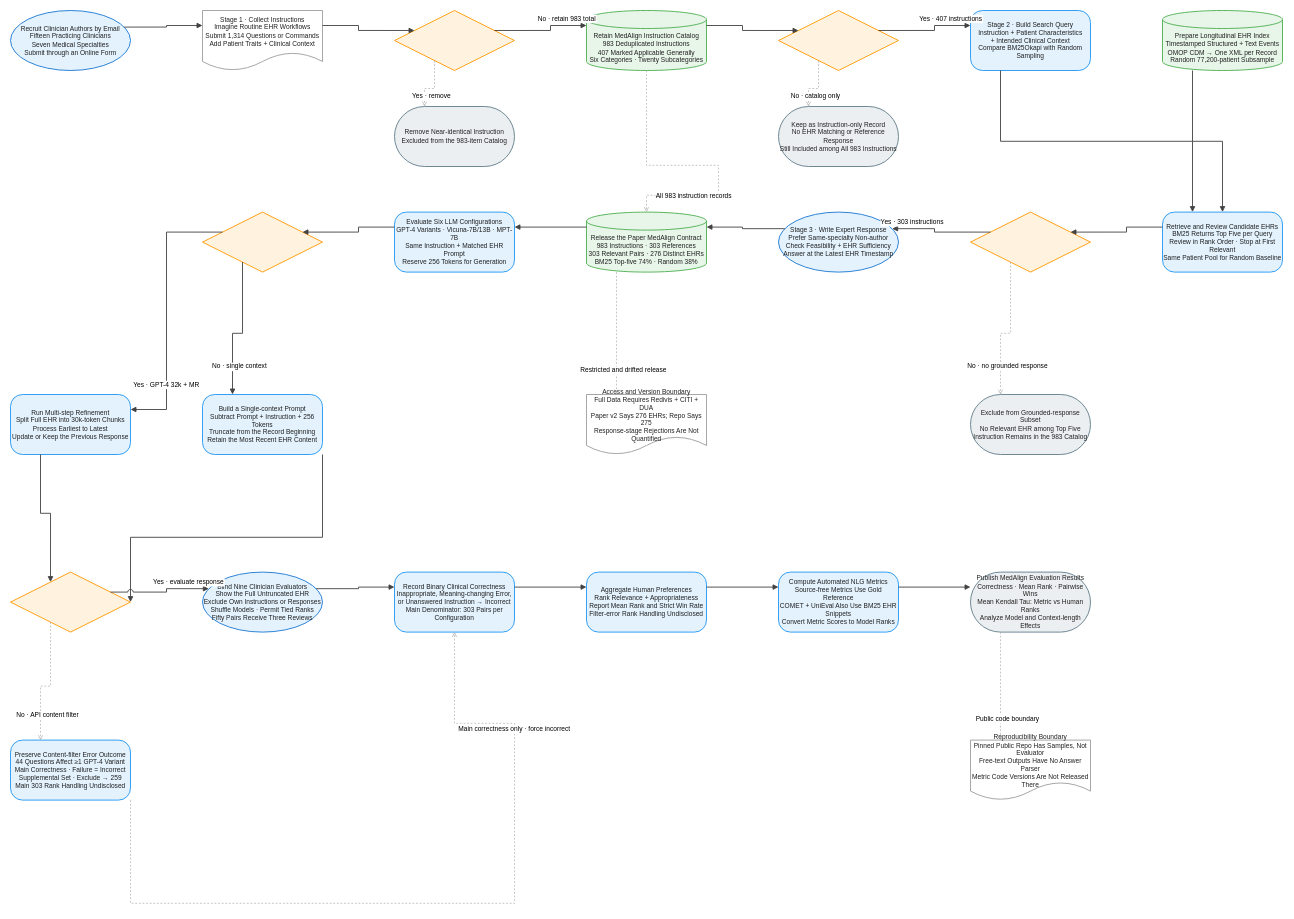
Some shapes in this 1294 by 919 pixel diagram are drawn without their labels. The shapes that lost their labels are listed below. From the top down, each one's box as (x1, y1, x2, y2) in pixels, then its label:
(394, 10, 515, 71): Does an Instruction Have ROUGE-L Similarity above 0.7?
(778, 10, 899, 71): Is the Instruction Marked Applicable to Patients Generally?
(202, 211, 323, 272): Use the GPT-4 32k Multi-step-refinement Configuration?
(970, 211, 1091, 272): Is at Least One of the Top Five EHRs Manually Judged Relevant?
(10, 571, 131, 632): Did the Model API Return a Clinical-text Response?
